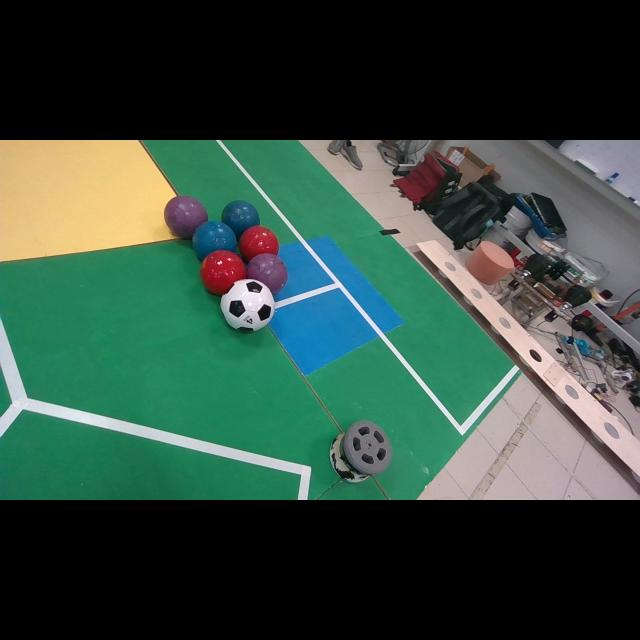B: (192, 221, 238, 259), (221, 200, 260, 239)
P: (164, 195, 208, 239), (248, 252, 288, 294)
R: (200, 250, 248, 295), (239, 225, 279, 261)
